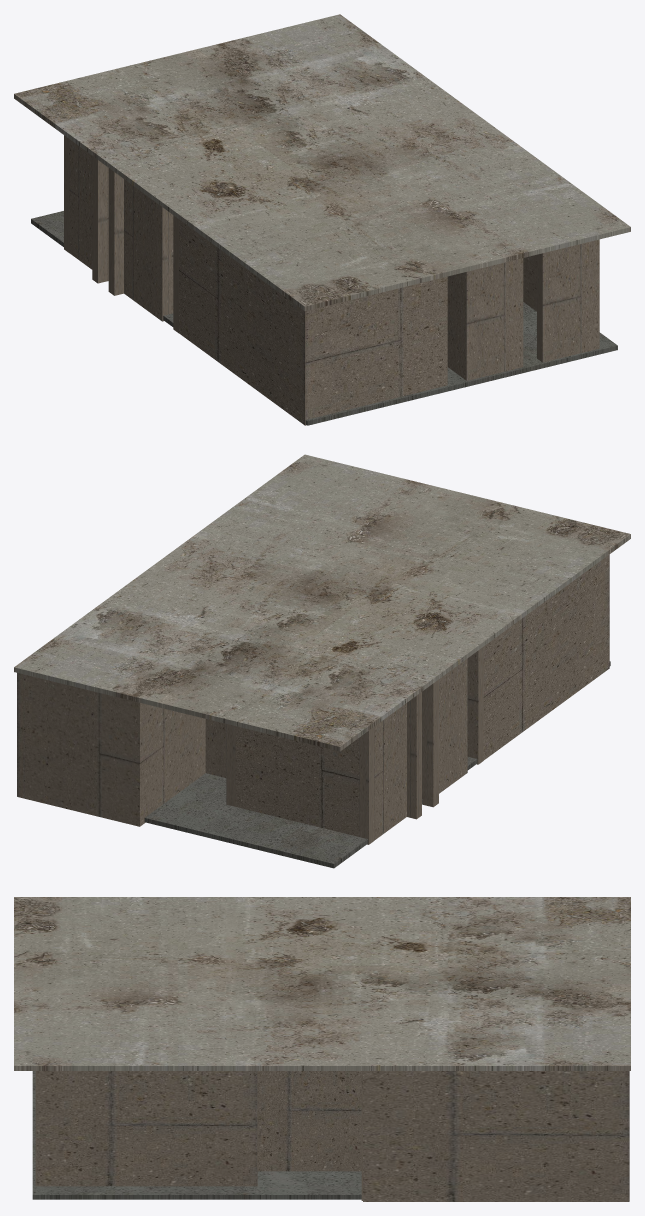
The model's file is area2.glb.
3 renders of one model, top to bottom at view 1: azimuth 30°, elevation 25°; view 2: azimuth 150°, elevation 25°; view 3: azimuth 270°, elevation 25°, orthographic. The views are drawn at different scales.
Parts seen in each view (by area): view 1: ceiling; view 2: ceiling; view 3: ceiling.
Boxes of the visible parts, x1,y1,x2,y2 form: ceiling: (14, 14, 630, 425); ceiling: (14, 454, 630, 868); ceiling: (14, 897, 630, 1201).
Size of the model in its own units: 154 by 58.36 by 238.
35 materials, 19 textured.
